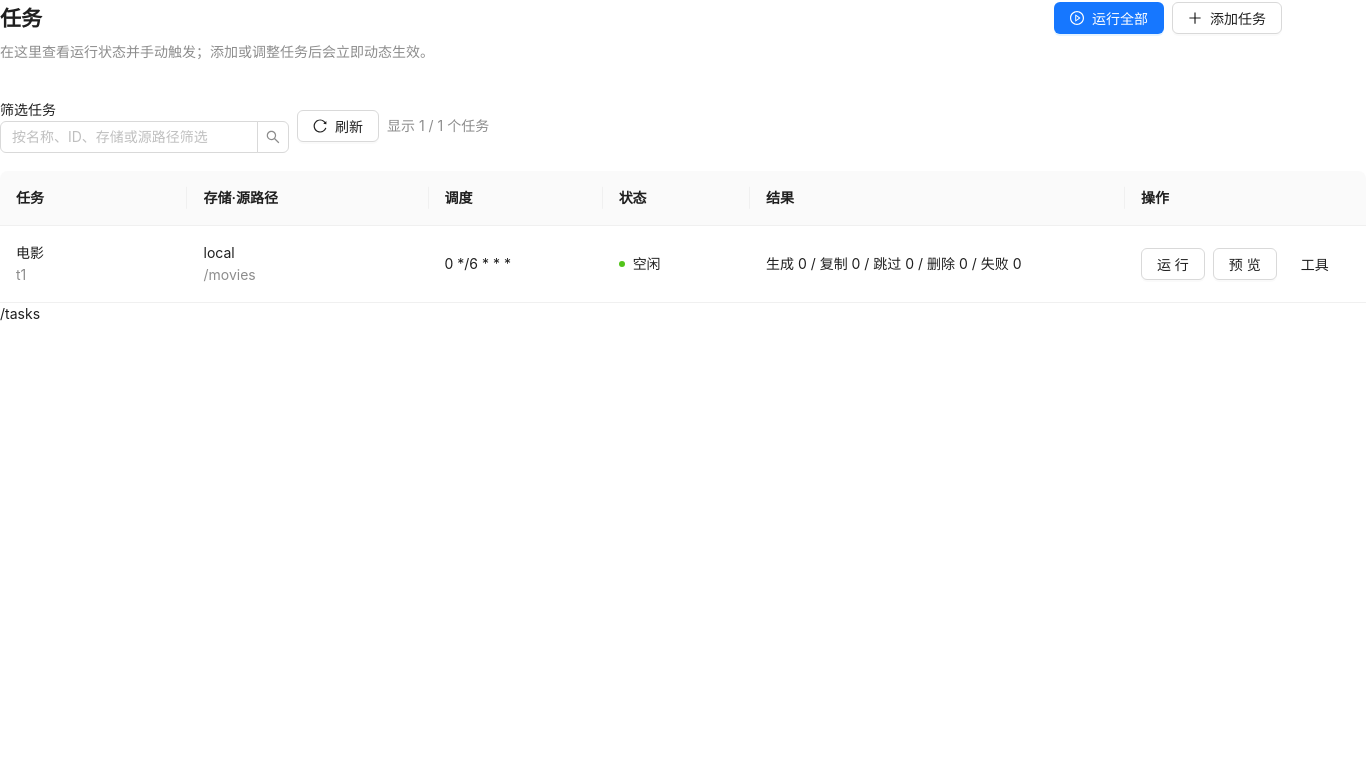
Test: 预览失败显示错误并解除按钮 loading
Click the button "预 览" at coordinates (1245, 264), box [1213,248,1277,280]
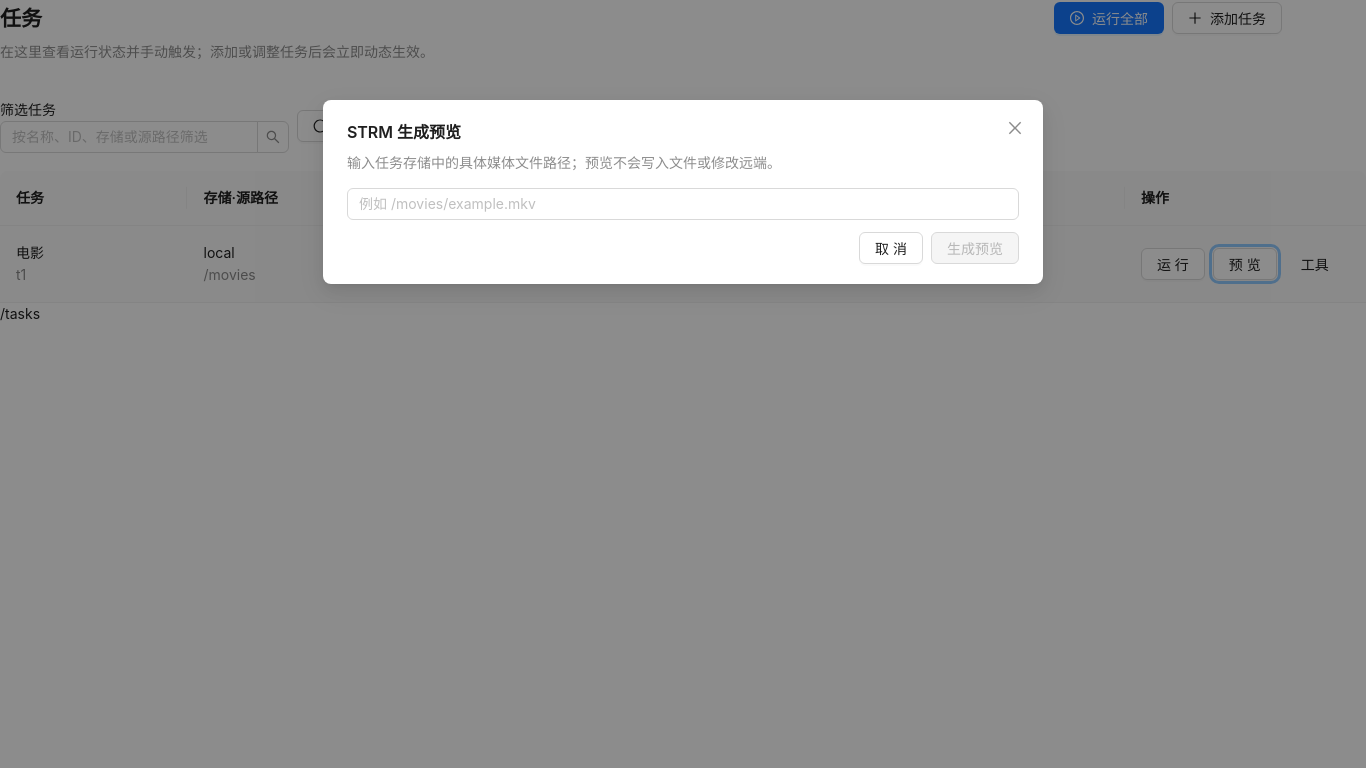
Type "/movies/a.mkv" into the field named "源文件路径" at coordinates (683, 204), box [347,188,1019,220]
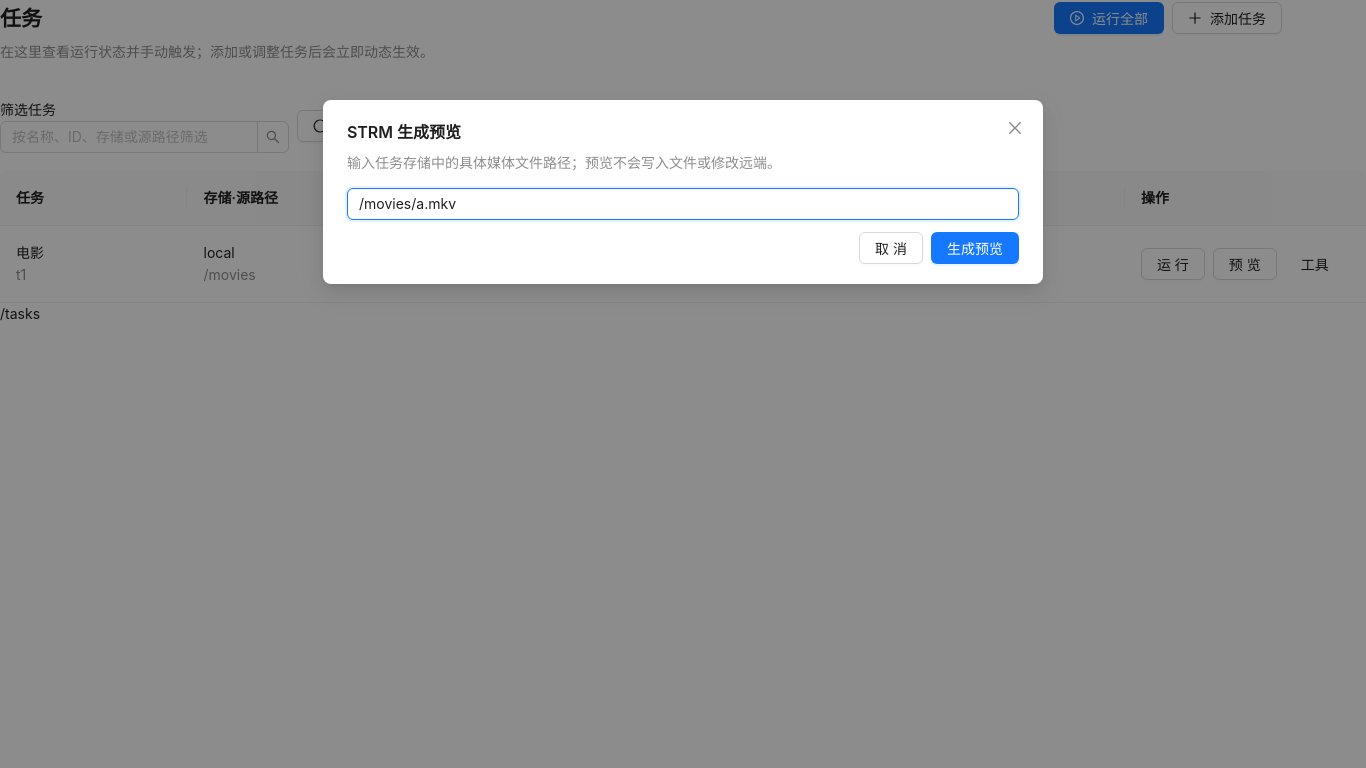
Click the button "生成预览" at coordinates (975, 248), box [931,232,1019,264]
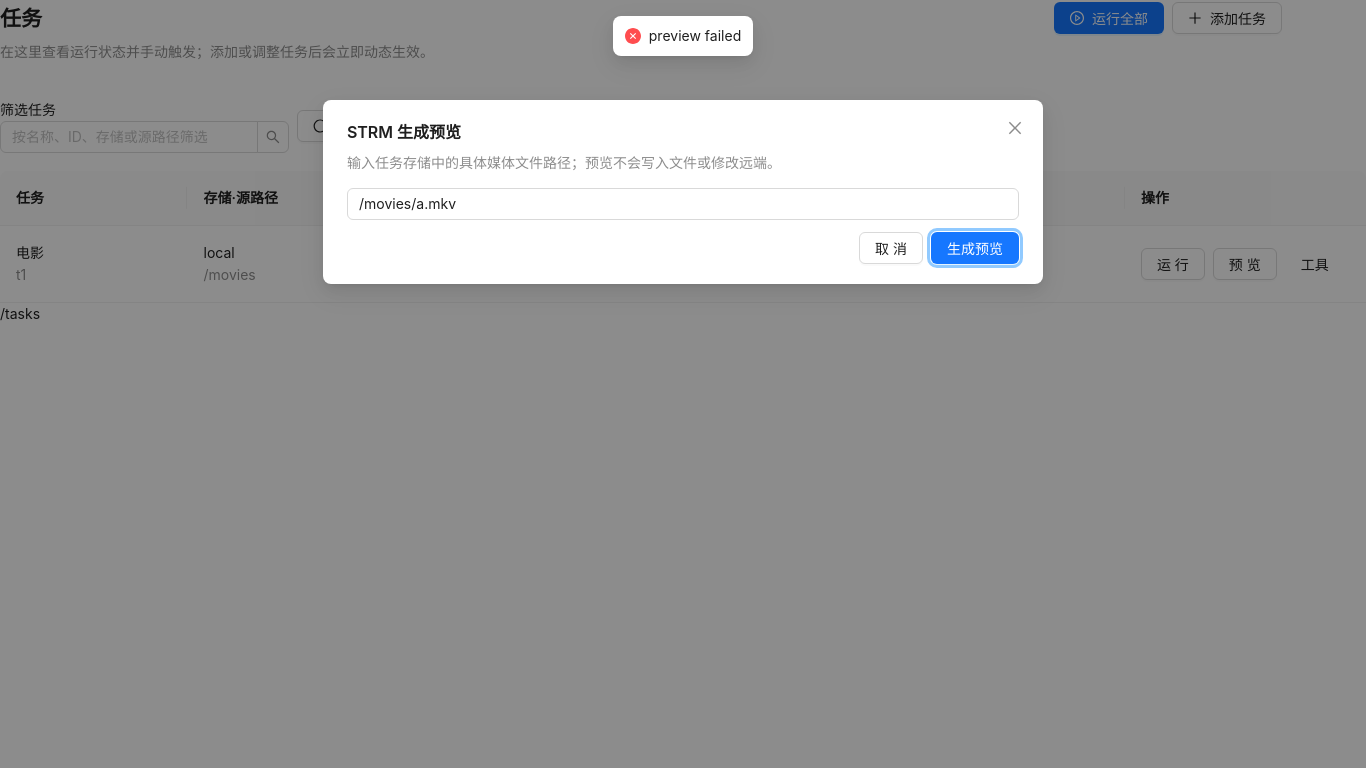
Now the text "preview failed" is shown, box [649,25,741,47]
